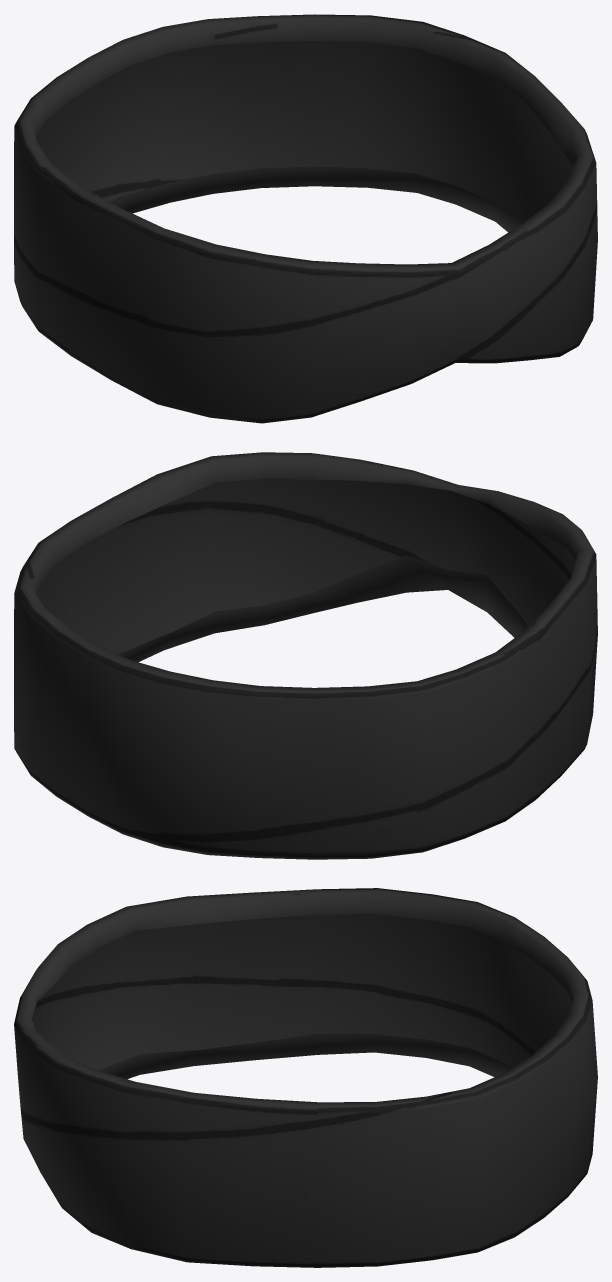
The model's file is _headwear_037.fbx.
The picture shows the model from 3 angles, top to bottom: view 1: azimuth 30°, elevation 25°; view 2: azimuth 150°, elevation 25°; view 3: azimuth 270°, elevation 25°; orthographic projection. The views are drawn at different scales.
Visible parts, largest first — view 1: f_headwear_037; view 2: f_headwear_037; view 3: f_headwear_037.
Part boxes in pixels (box(x1,y1,x2,y2)): f_headwear_037: box(14, 14, 597, 423); f_headwear_037: box(14, 452, 597, 859); f_headwear_037: box(14, 888, 597, 1267).
Bounding box in the file's own units: 16.85 × 5.87 × 18.65.
